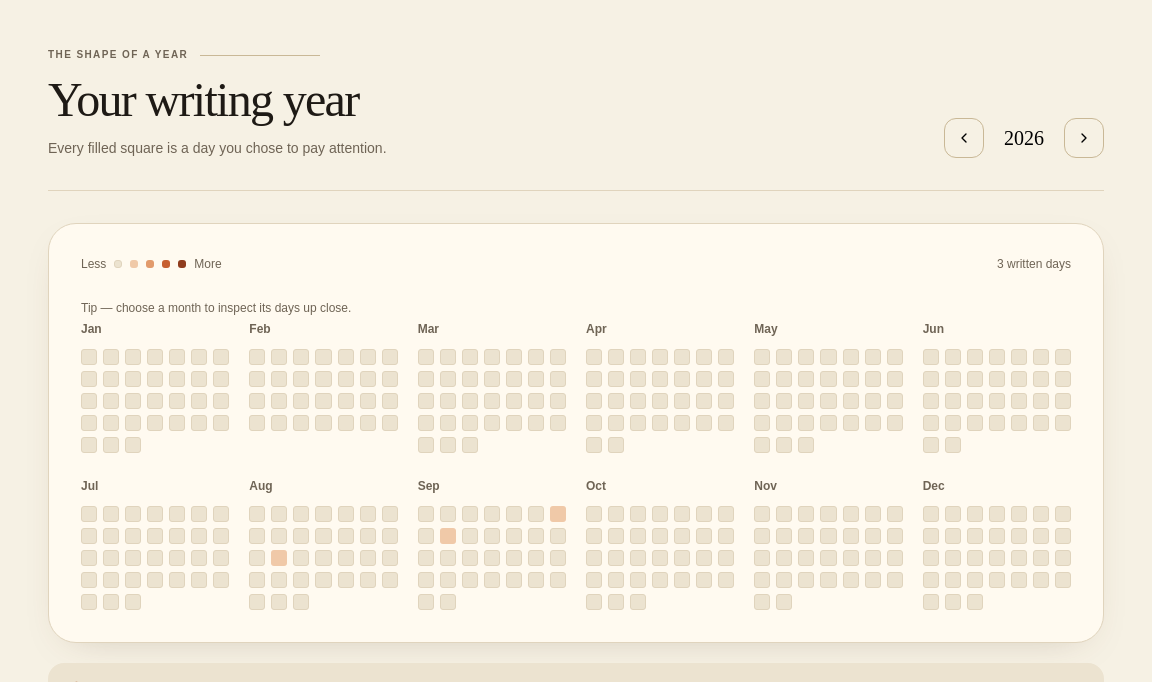
Test: Calendar › leaves zoom mode on year change
Check: the element with test id "calendar-month-9" is shown, box left=418, top=473, right=566, bottom=610
Step 1. Click the button with test id "calendar-zoom-month-9" → (429, 486), box left=418, top=478, right=440, bottom=494
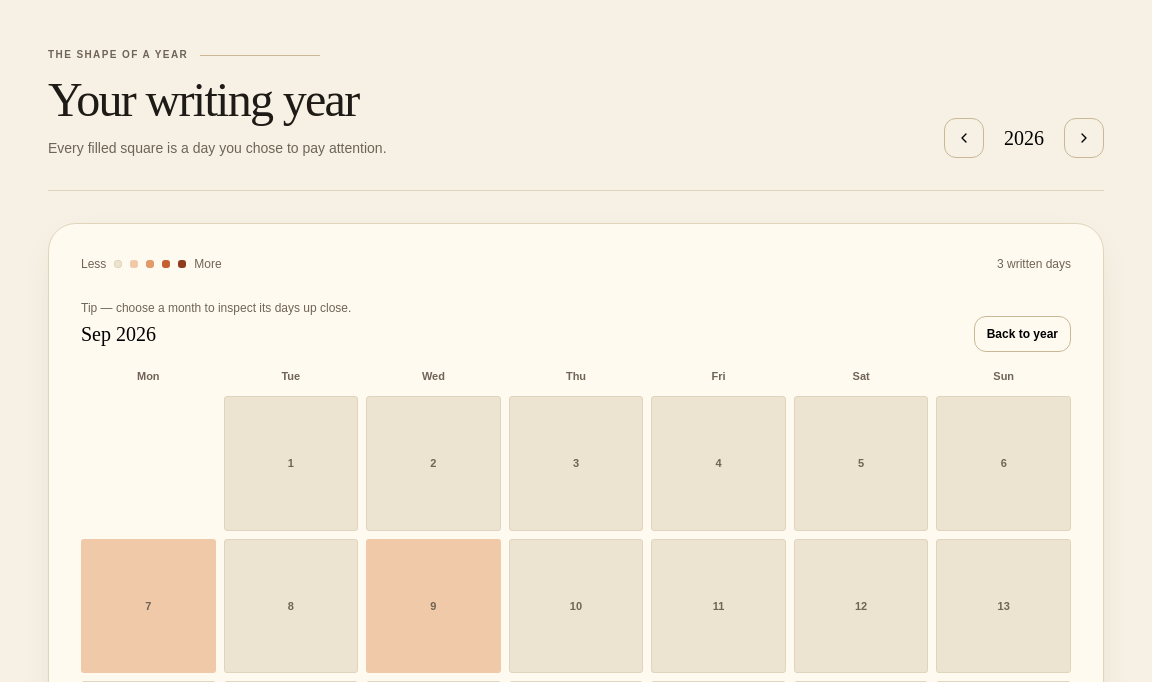
Step 2. Click the button with test id "calendar-previous-year-button" → (964, 138), box left=944, top=118, right=984, bottom=158
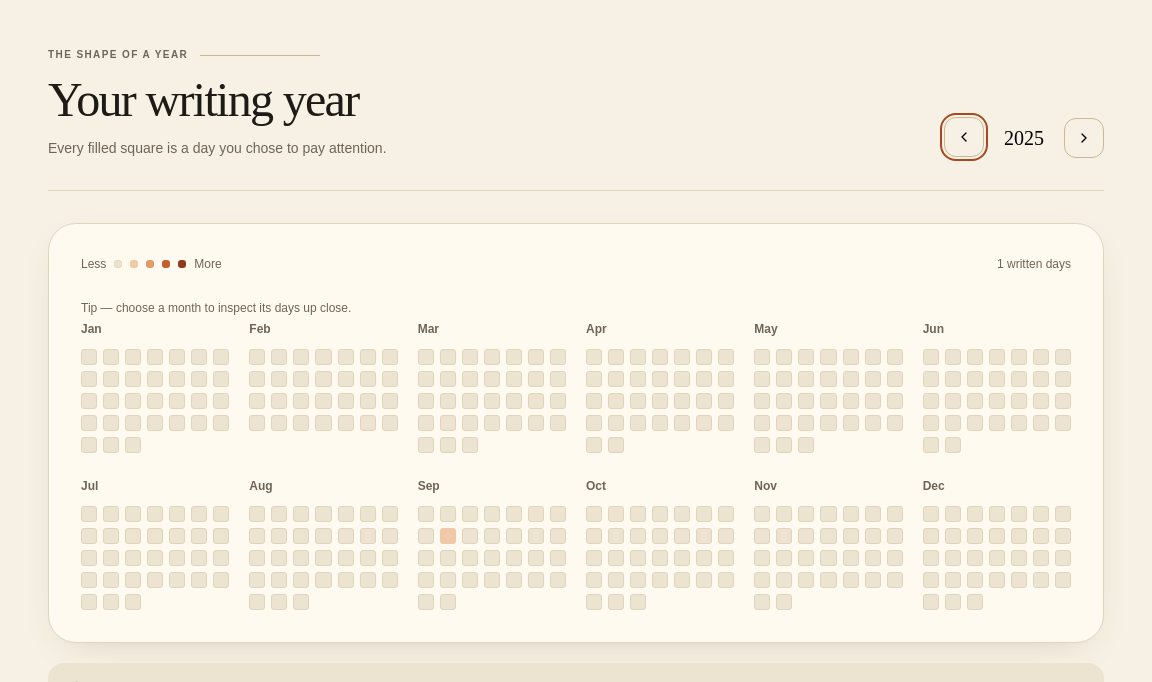
Check: the element with test id "calendar-month-grid" is shown, box left=81, top=316, right=1071, bottom=610
